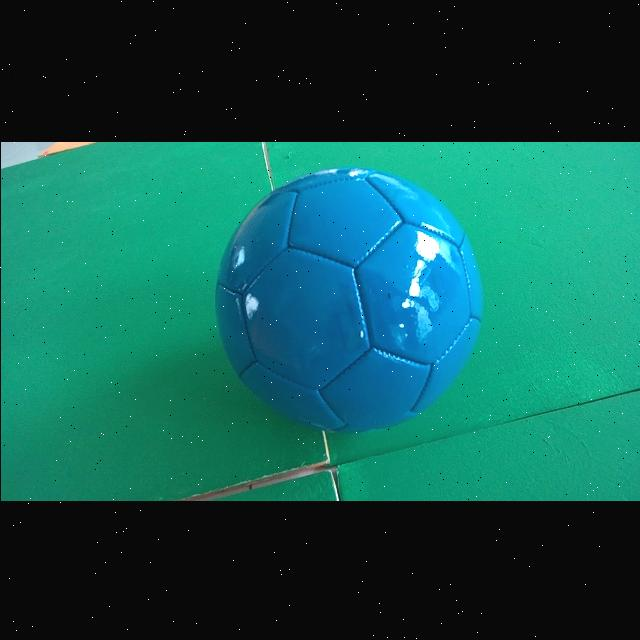B: (215, 166, 482, 431)
